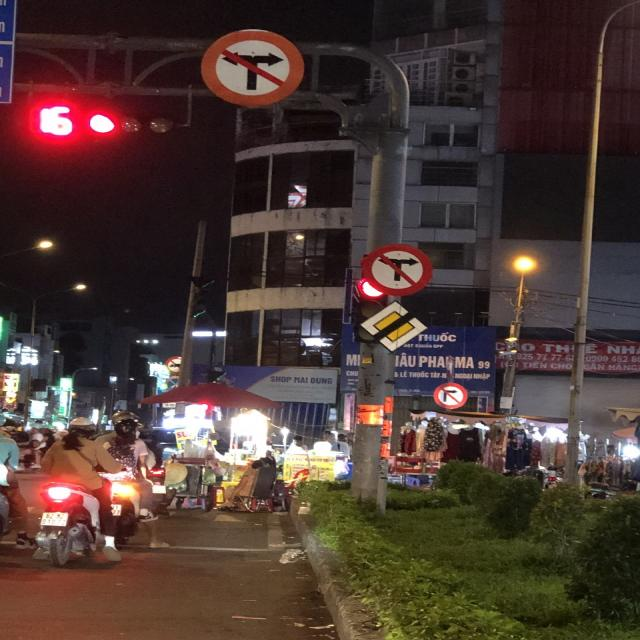Bien bao cam re phai: (430, 378, 472, 413)
